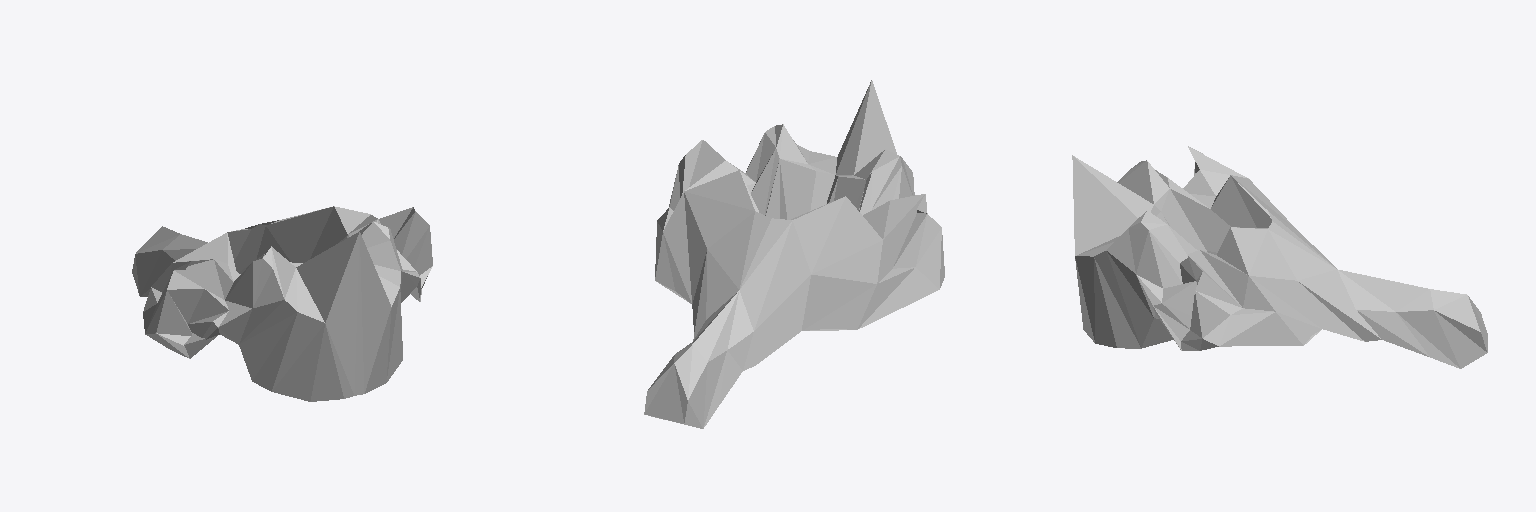
The model's file is Spine_Bone_02.obj.
3 renders of one model, left to right at view 1: azimuth 30°, elevation 25°; view 2: azimuth 150°, elevation 25°; view 3: azimuth 270°, elevation 25°, orthographic.
Visible parts, largest first — view 1: axis_Mesh group1; view 2: axis_Mesh group1; view 3: axis_Mesh group1.
Boxes of the visible parts, box(x1,y1,x2,y2) form: axis_Mesh group1: box(132, 206, 432, 401); axis_Mesh group1: box(644, 80, 944, 428); axis_Mesh group1: box(1072, 146, 1487, 368).
Bounding box in the file's own units: 0.5363 × 0.3654 × 0.6824.